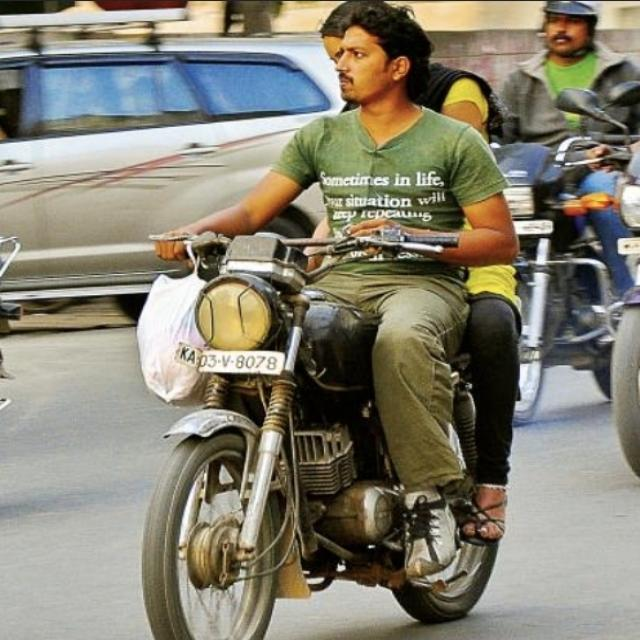WithHelmet: (494, 0, 640, 350)
WithoutHelmet: (152, 5, 521, 581), (316, 0, 525, 543)
